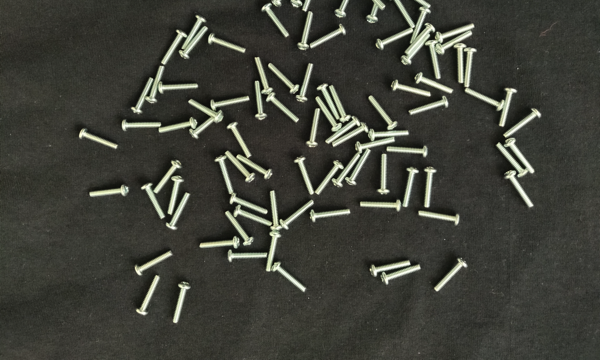longscrew: (501, 107, 543, 140), (501, 170, 535, 210), (495, 141, 530, 179), (434, 257, 469, 294), (134, 274, 163, 317), (271, 261, 308, 294), (504, 137, 536, 175), (367, 94, 399, 131), (314, 159, 345, 197), (279, 199, 317, 230), (345, 148, 374, 188), (404, 21, 437, 56), (265, 91, 300, 124), (165, 191, 193, 232), (224, 210, 255, 247), (332, 151, 362, 189), (134, 249, 174, 277), (189, 109, 224, 141), (463, 86, 506, 112), (325, 115, 361, 146), (152, 159, 183, 195), (260, 2, 290, 39), (179, 25, 209, 61), (314, 95, 343, 132), (310, 22, 348, 50), (314, 83, 342, 121), (226, 121, 254, 159), (267, 62, 300, 94), (224, 150, 256, 183), (401, 32, 432, 66), (374, 26, 416, 51), (161, 28, 188, 66), (140, 183, 167, 221), (331, 122, 370, 148), (181, 14, 208, 51), (413, 72, 456, 95), (380, 263, 423, 286), (236, 154, 274, 180), (408, 94, 450, 117), (78, 128, 120, 151), (188, 98, 225, 124), (130, 76, 154, 116), (436, 30, 474, 55), (434, 22, 477, 44), (329, 83, 352, 124), (292, 155, 315, 196), (229, 193, 270, 216), (144, 64, 167, 105), (408, 6, 432, 45), (232, 205, 274, 227), (171, 281, 192, 325), (253, 55, 275, 96), (214, 155, 236, 196), (498, 86, 519, 128), (369, 258, 412, 278), (208, 33, 248, 54), (296, 10, 316, 51), (295, 62, 315, 103), (389, 80, 432, 99), (401, 166, 420, 209), (389, 0, 417, 29), (264, 229, 282, 274), (417, 209, 461, 227), (166, 175, 185, 216), (425, 38, 443, 80), (355, 136, 397, 154), (210, 94, 251, 112), (158, 117, 199, 135), (422, 166, 439, 209), (309, 208, 352, 225), (268, 189, 285, 232), (306, 107, 322, 149), (359, 199, 402, 214), (198, 235, 241, 250), (89, 184, 131, 199), (386, 145, 430, 159), (463, 47, 478, 88), (157, 81, 200, 95), (226, 249, 268, 263), (121, 119, 163, 133), (254, 80, 268, 121), (367, 128, 411, 141), (377, 152, 390, 196), (454, 43, 467, 84), (365, 0, 387, 24), (333, 0, 358, 19), (354, 0, 388, 11), (395, 0, 432, 9), (300, 0, 324, 13), (271, 0, 303, 7), (290, 0, 312, 7)
